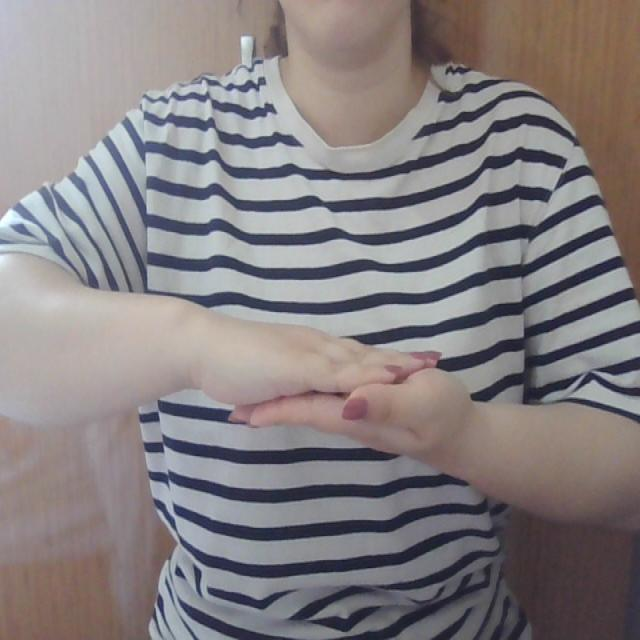Arkadas: (179, 288, 502, 478)
